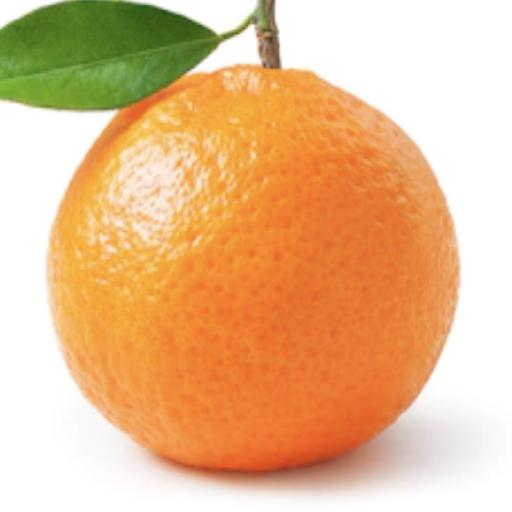orange: (49, 67, 459, 470)
